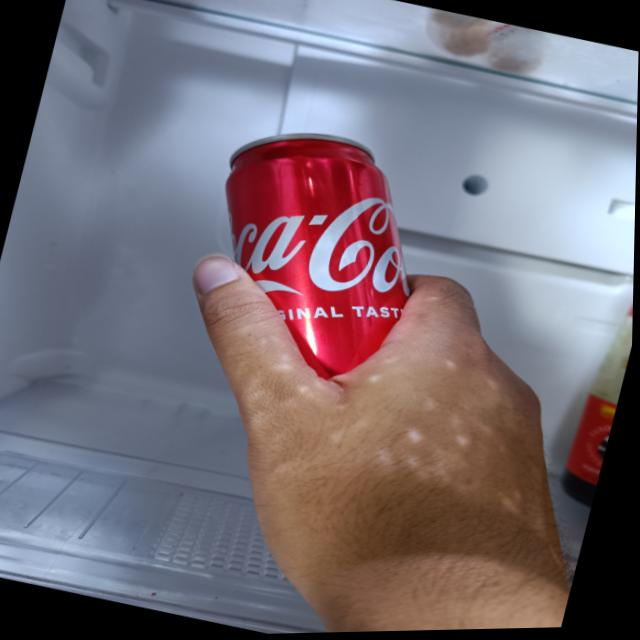coke: (172, 113, 455, 451)
